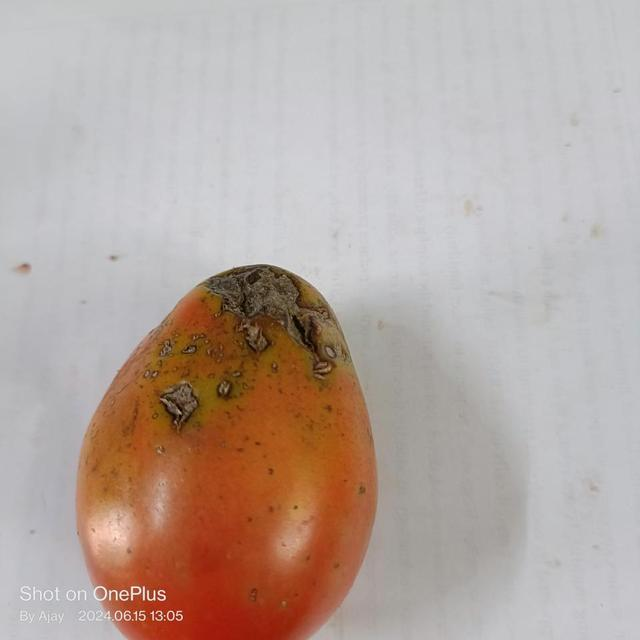Bacterial Spot Fruit: (33, 32, 180, 269)
